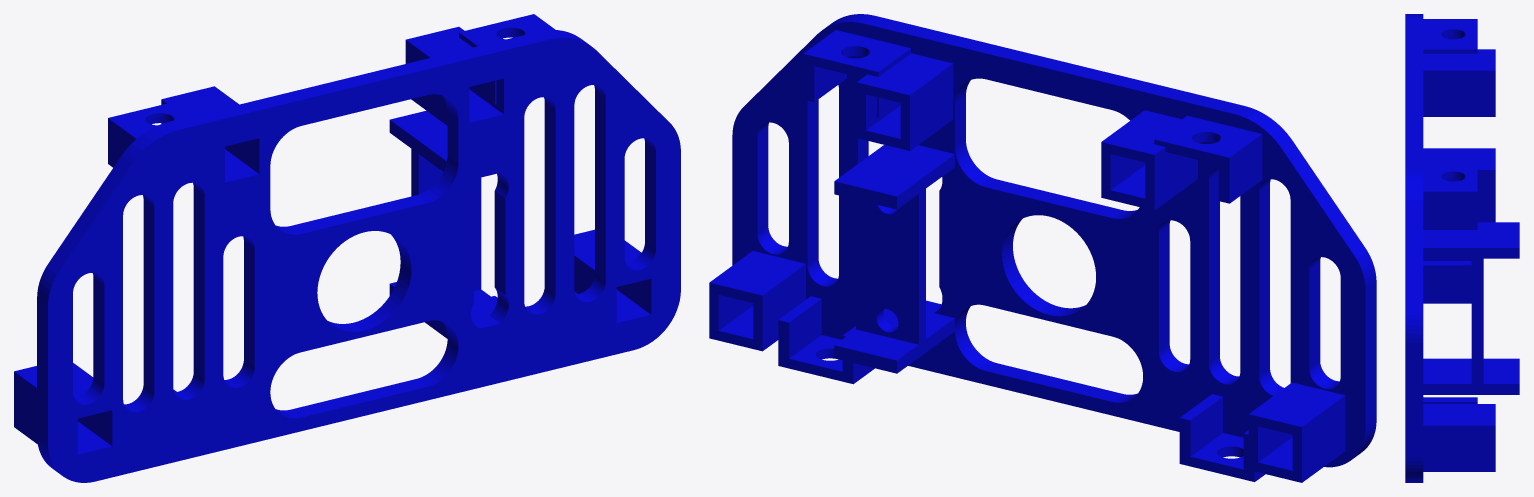
Rendered from right_side_PCBWay Community.dae.
3 renders of one model, left to right at view 1: azimuth 30°, elevation 25°; view 2: azimuth 150°, elevation 25°; view 3: azimuth 270°, elevation 25°, orthographic. The views are drawn at different scales.
Visible parts, largest first — view 1: tmp_export_right_side_PCBWay Community; view 2: tmp_export_right_side_PCBWay Community; view 3: tmp_export_right_side_PCBWay Community.
Part boxes in pixels (box(x1,y1,x2,y2)): tmp_export_right_side_PCBWay Community: box(14, 14, 680, 482); tmp_export_right_side_PCBWay Community: box(709, 14, 1376, 482); tmp_export_right_side_PCBWay Community: box(1405, 14, 1519, 482).
Size of the model in its own units: 0.101 by 0.019 by 0.0505.
